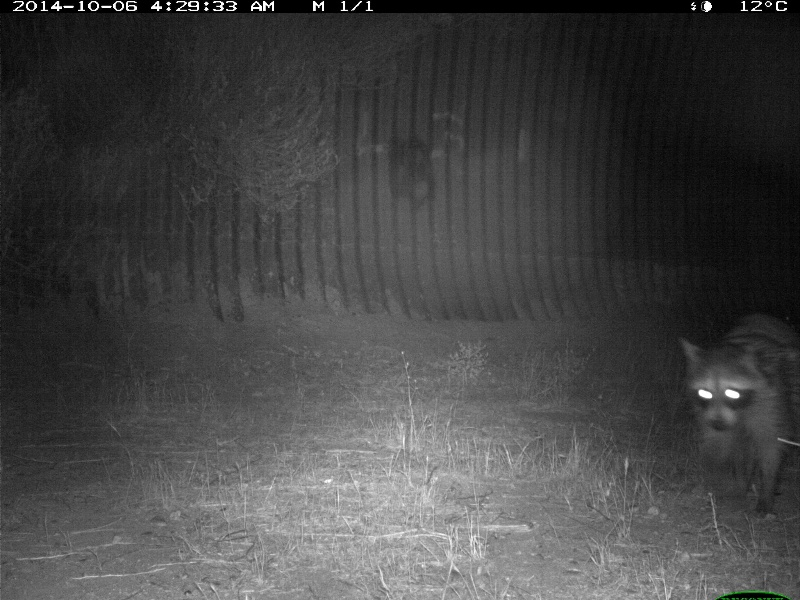raccoon: (683, 311, 791, 516)
